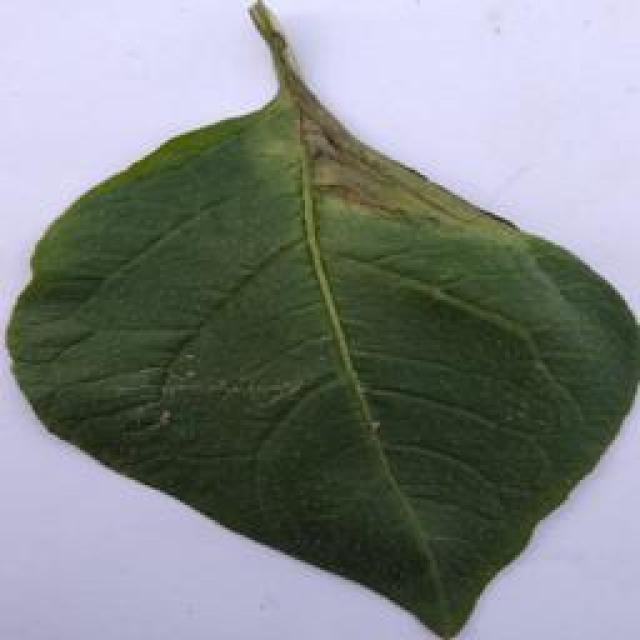Potato_Late_Blight: (8, 10, 628, 639)
